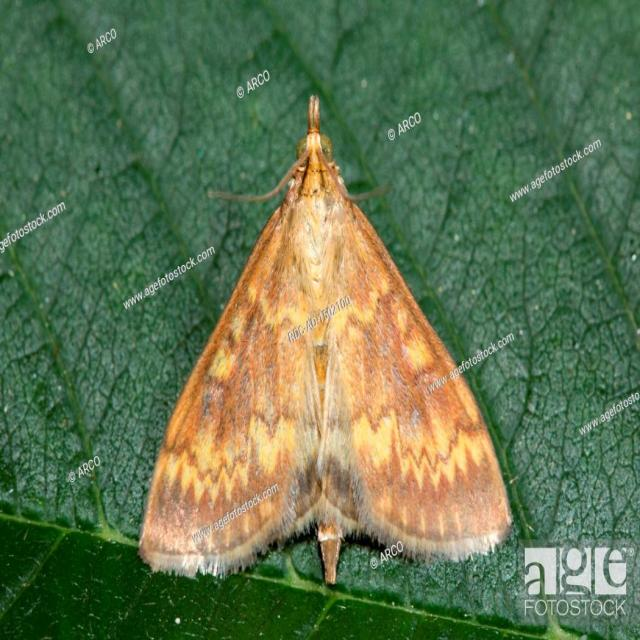cornborer-Adult-: (134, 85, 528, 598)
